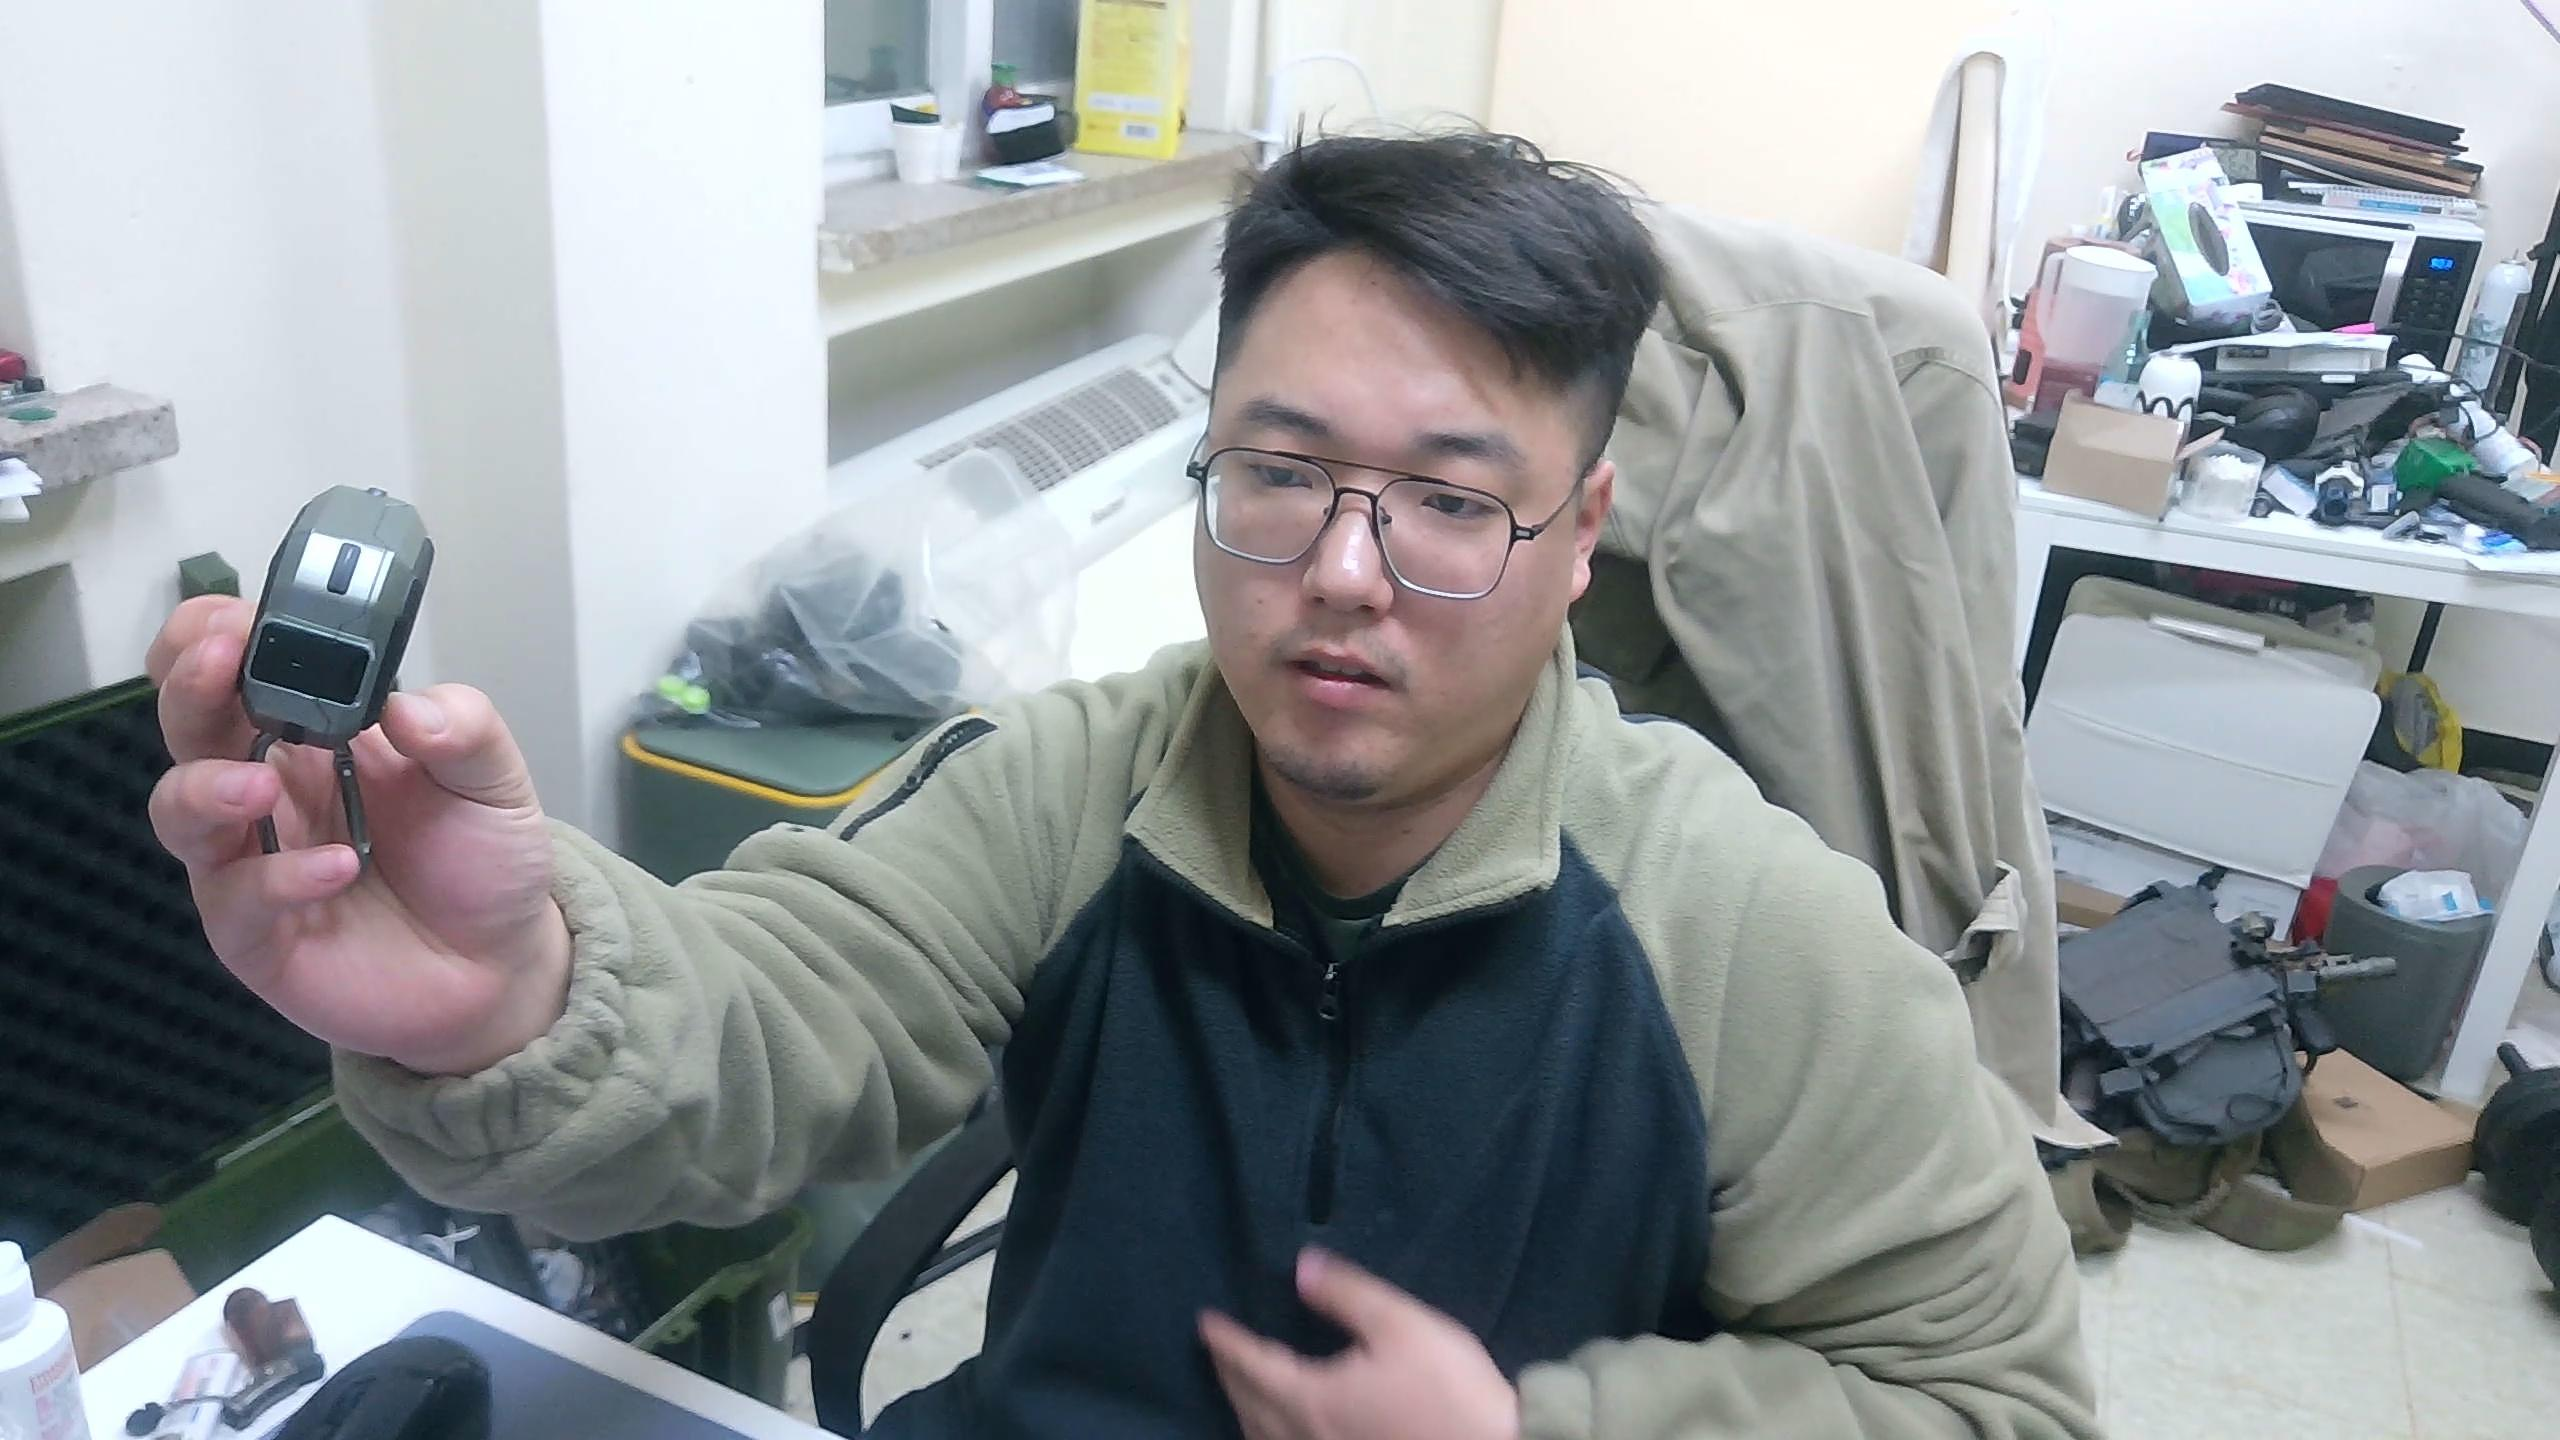blue_pliers: (237, 480, 440, 860)
